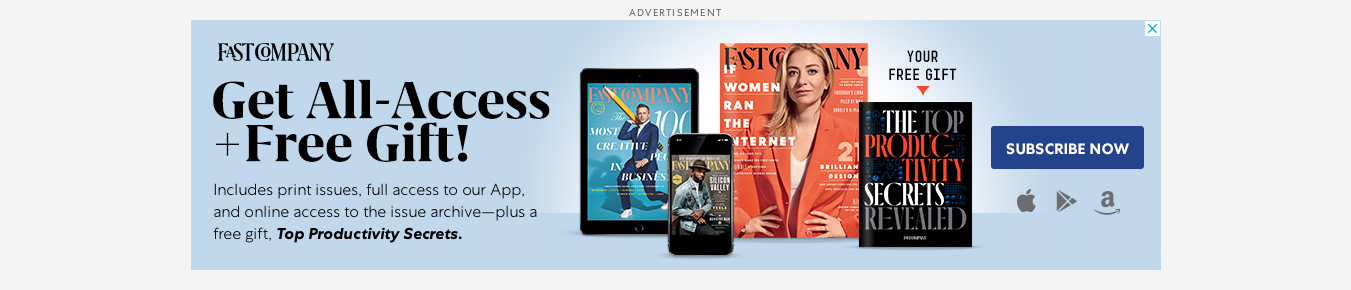fake_button: (975, 124, 1155, 175)
